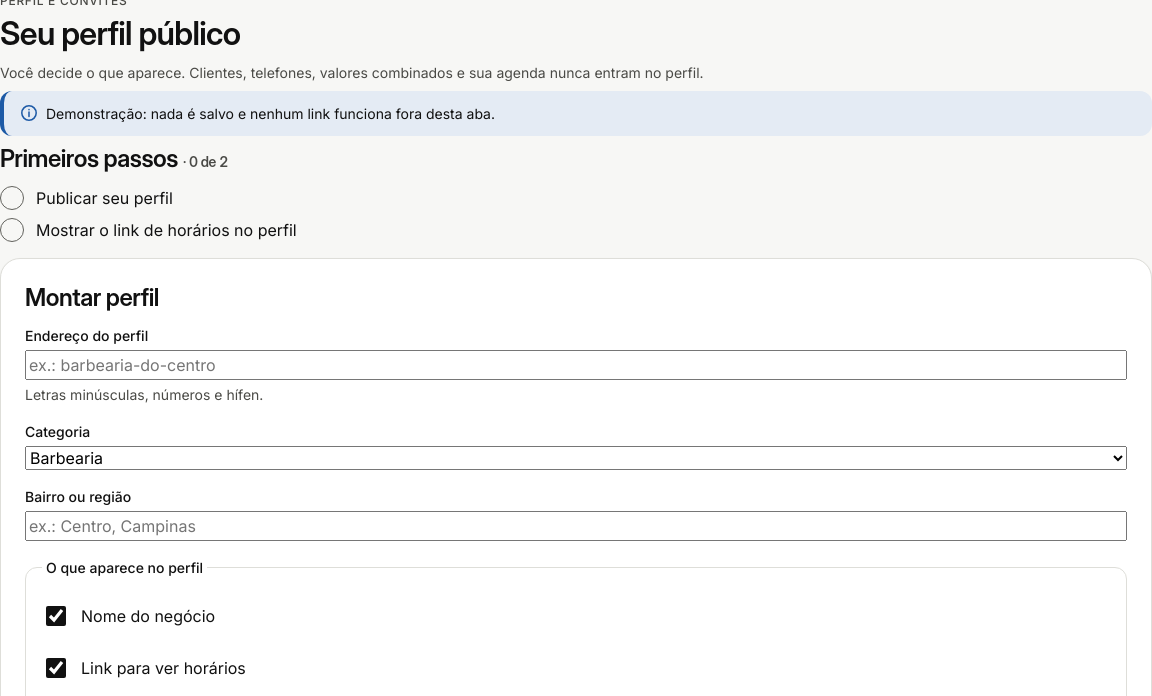
Test case: perfil do dono (demonstração) › publica com slug normalizado e só campos escolhidos; endereço inválido bloqueia
In the field labelled "Endereço do perfil": (576, 365) [25,350,1127,380], type "a"
(page scrolled)
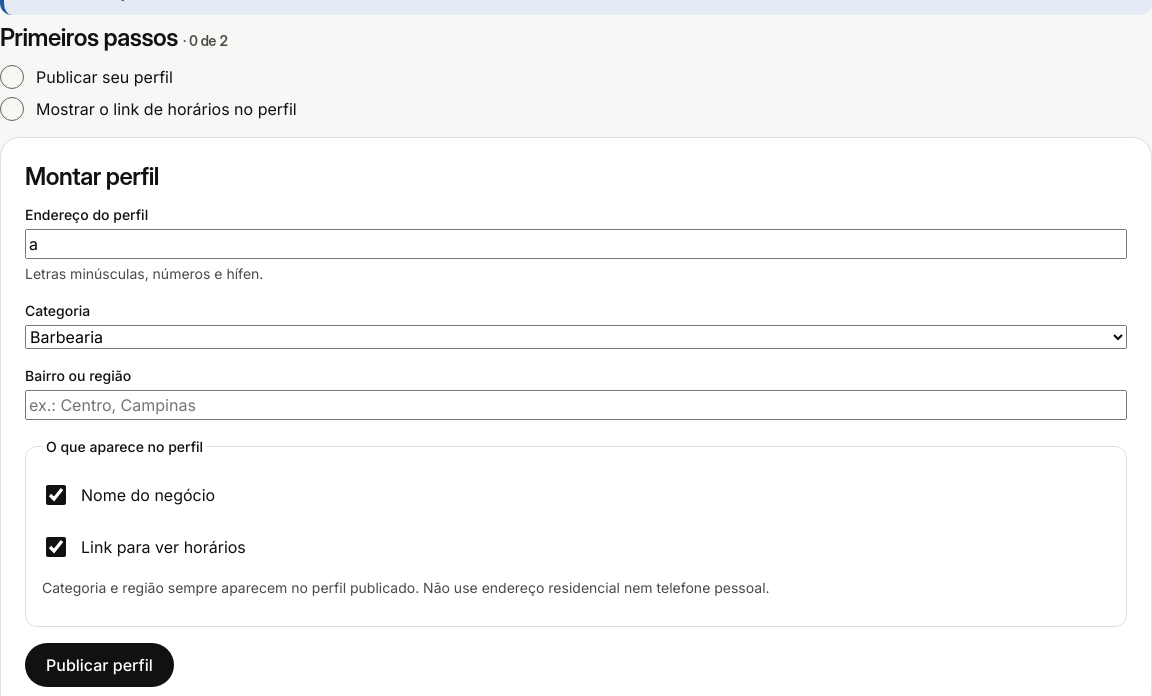
Click the button "Publicar perfil": (99, 665) [25,643,174,687]
(page scrolled)
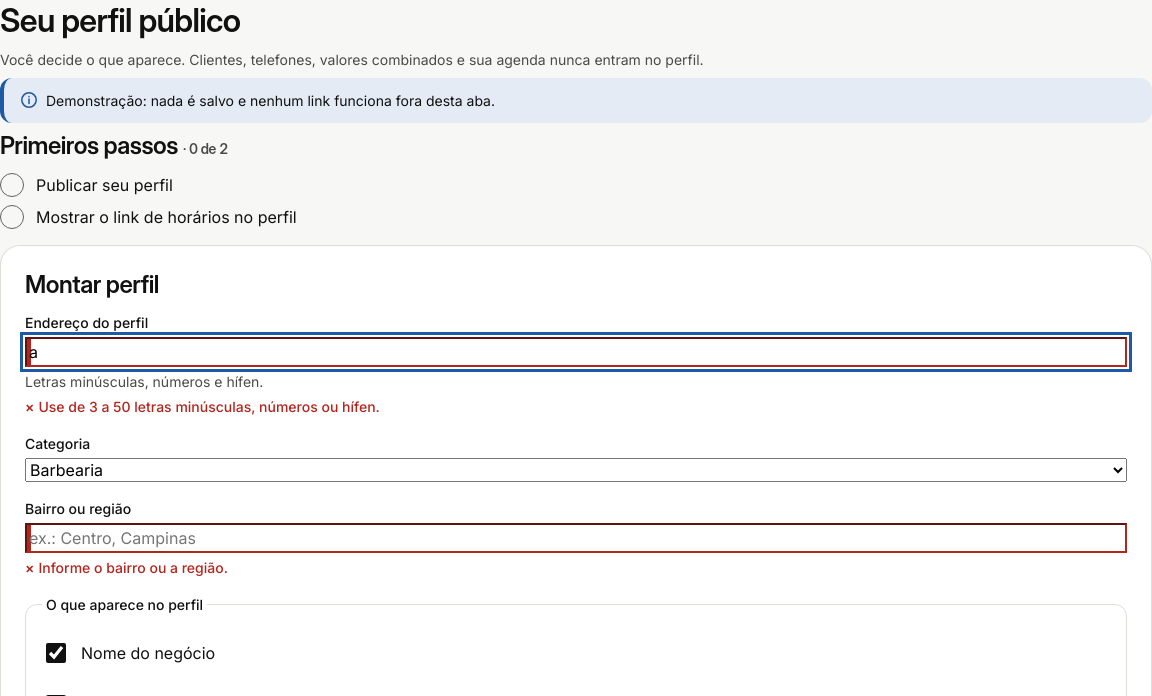
Expected: the text "Perfil publicado." is not shown
Result: the text "Use de 3 a 50 letras minúsculas, números ou hífen." is shown at [38,398,380,415]
Result: the text "Informe o bairro ou a região." is shown at [38,559,228,576]
Replace the text in the field labelled "Endereço do perfil" with "Barbearia São João": (576, 352) [25,337,1127,367]
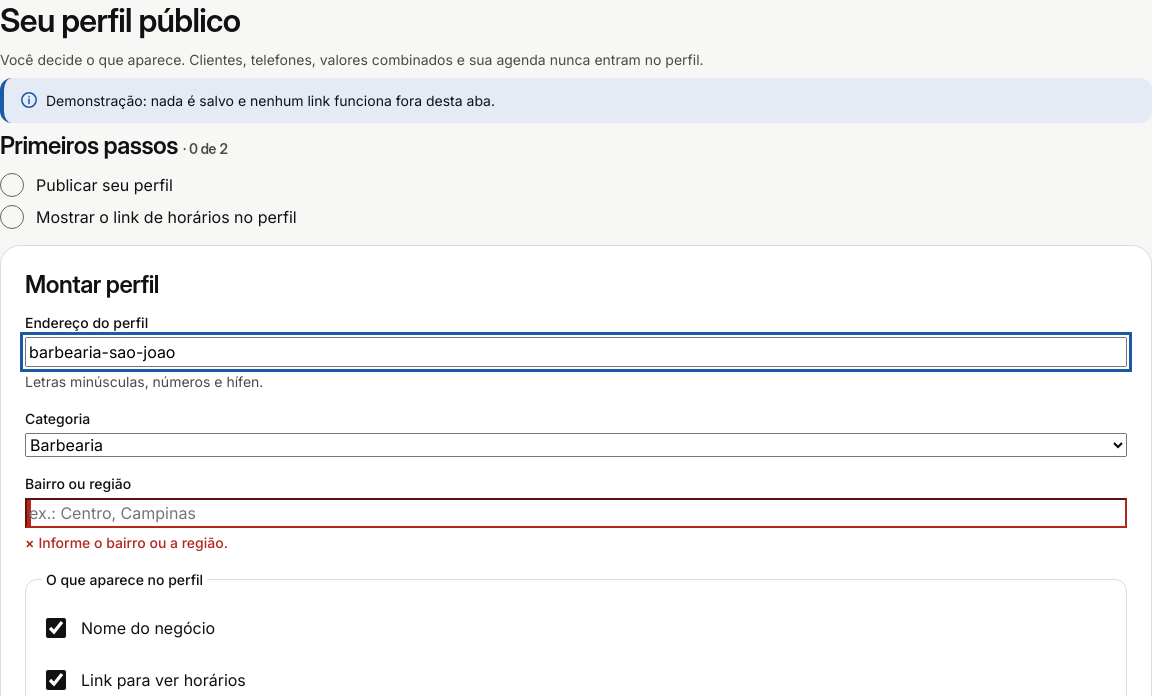
Result: the field labelled "Endereço do perfil" holds "barbearia-sao-joao" at [25,337,1127,367]
In the field labelled "Bairro ou região": (576, 513) [25,498,1127,528], type "Centro"
(page scrolled)
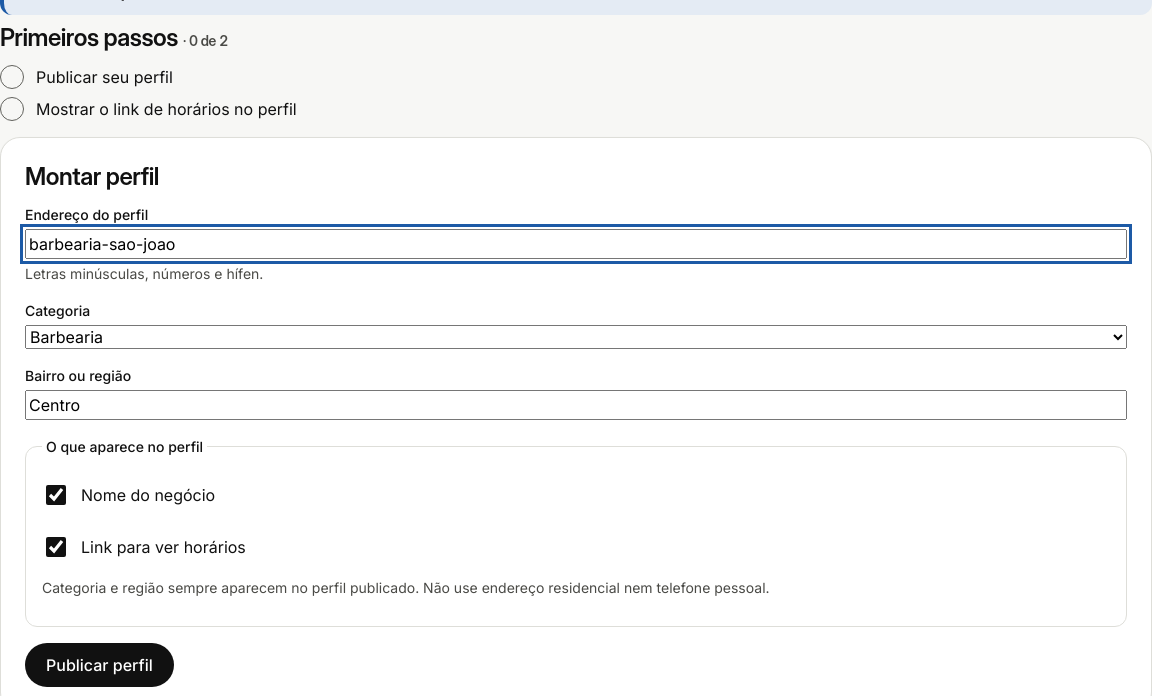
Click the button "Publicar perfil": (99, 665) [25,643,174,687]
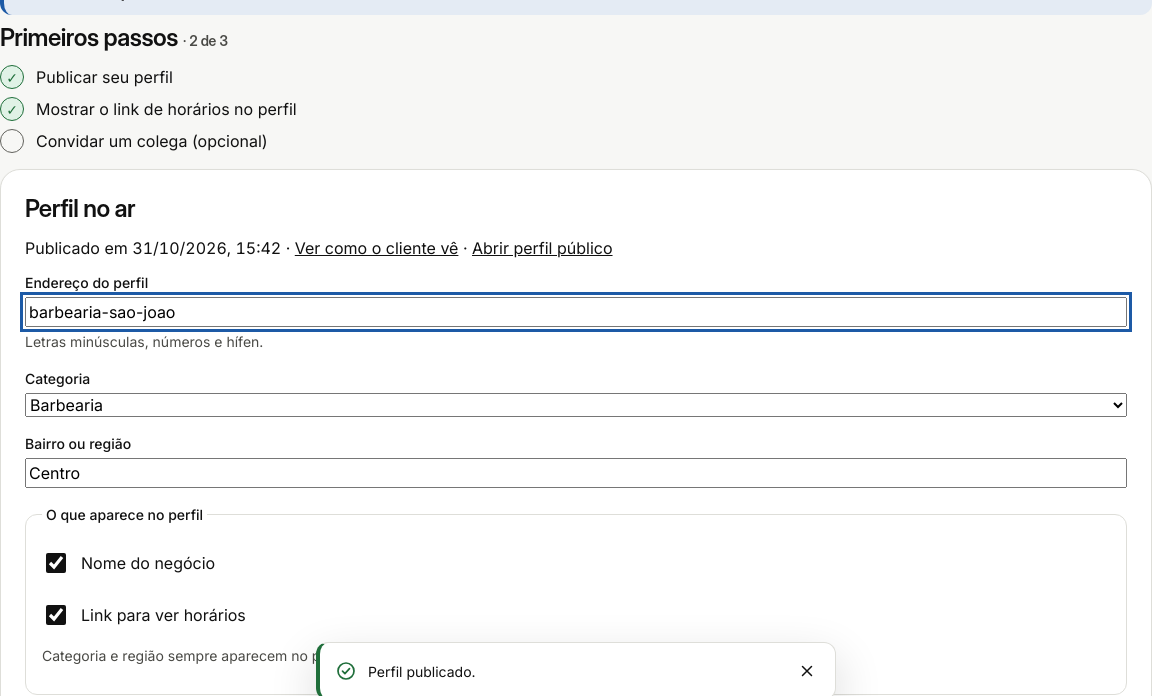
Result: the text "Perfil publicado." is shown at [368,662,476,680]
Result: the element "Primeiros passos" shows "2 de 3" at [0,23,350,153]
